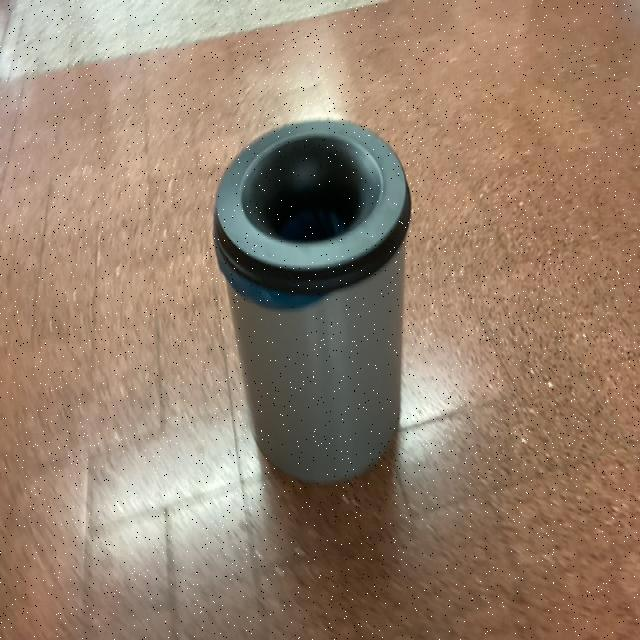garbage container: (189, 99, 451, 516)
